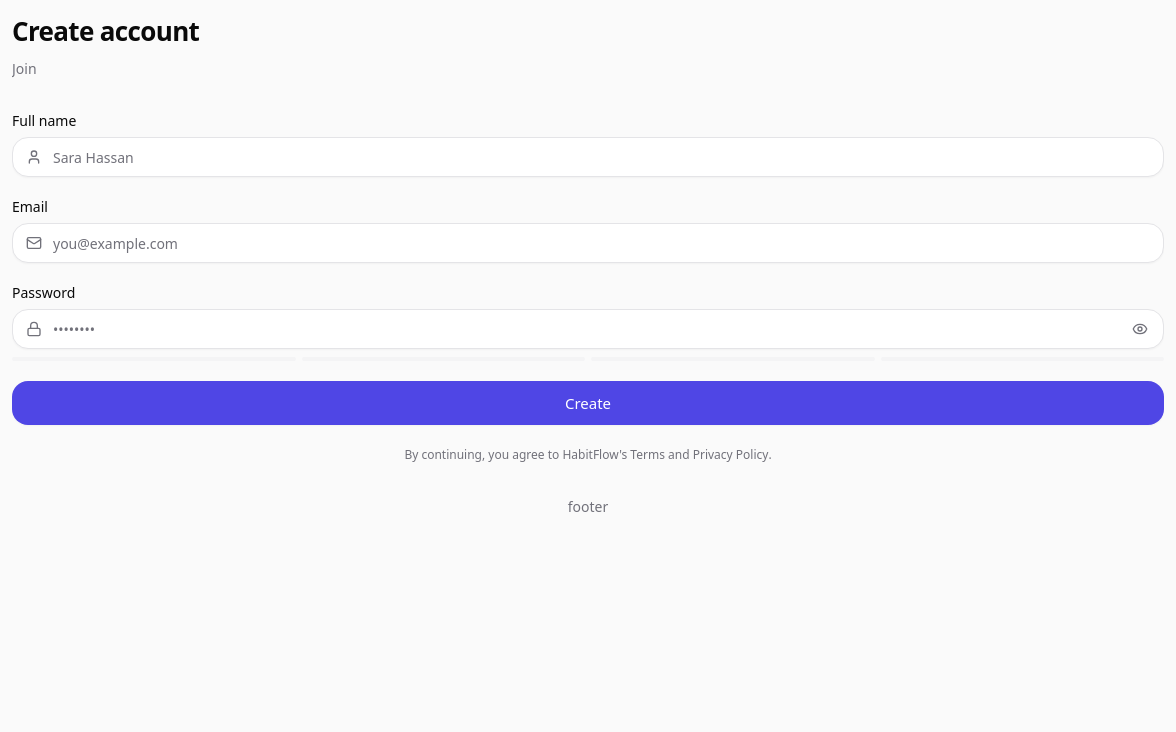
Scenario: AuthForm › shows a password strength label in register mode
The width and height of the screenshot is (1176, 732).
Type "abc" into the password field labelled "Password".
click(588, 329); type("abc")  # box [12,309,1164,349]
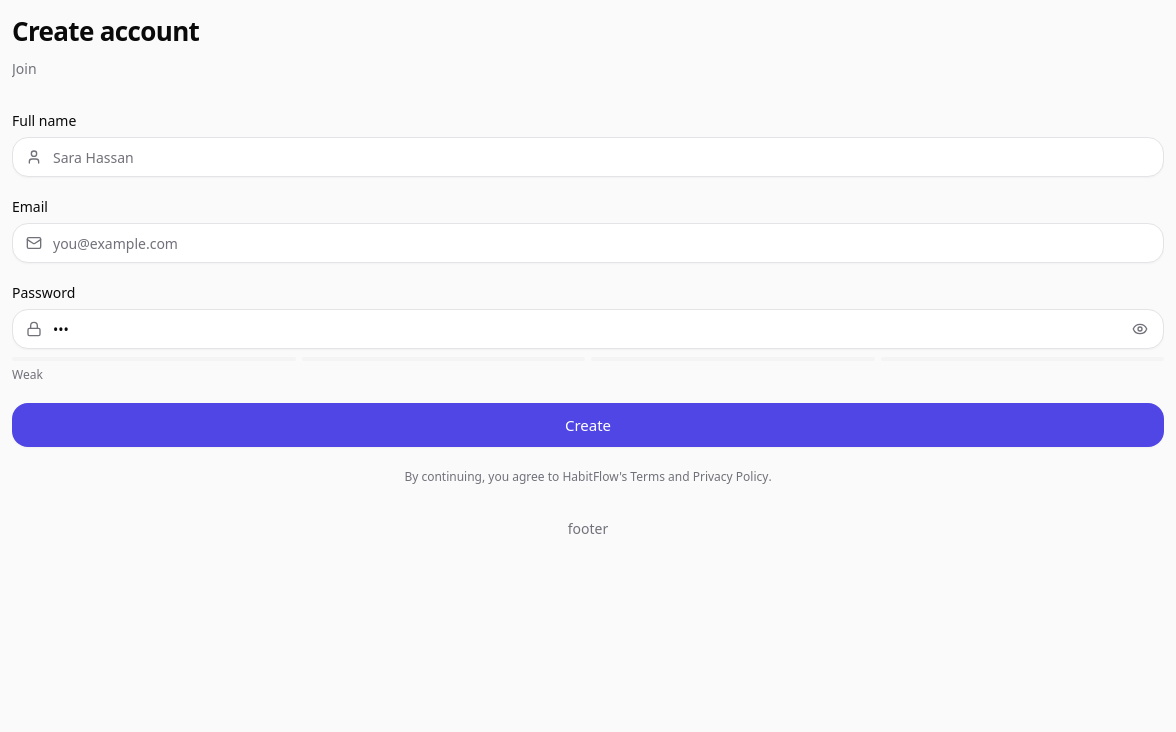
expect the text "Weak" is shown: met, box [12,366,43,383]
